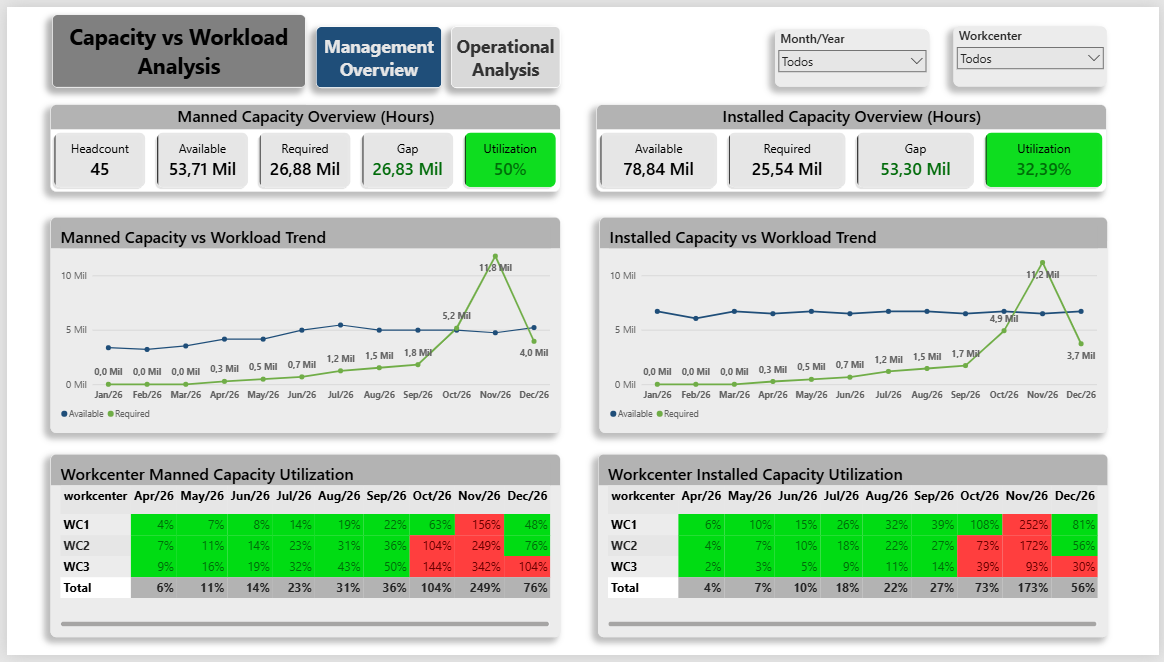

This screenshot's page, from the dashboard's own definition file:
{"tool":"powerbi","page":{"name":"Management Overview","canvas":[1920,1080],"ordinal":0},"visuals":[{"type":"cardVisual","title":"Installed Capacity Overview (Hours)","fields":{"Data":["Sum(analytics vw_capacity_workload.installed_capacity)","Sum(analytics vw_capacity_workload.required_installed_hours)","Sum(analytics vw_capacity_workload.installed_capacity_gap)","_measures.installed_utilization_pct"]},"box":[982.5,162.5,850,145],"z":0},{"type":"slicer","fields":{"Values":["planning_engine dim_date.month_year_name"]},"box":[1280,37.5,257.5,95],"z":1000},{"type":"cardVisual","title":"Manned Capacity Overview (Hours)","fields":{"Data":["_measures.Headcount","Sum(analytics vw_capacity_workload.manned_capacity)","Sum(analytics vw_capacity_workload.required_manned_hours)","Sum(analytics vw_capacity_workload.manned_capacity_gap)","_measures.manned_utilization_pct"]},"box":[72,162.5,850,145],"z":2000},{"type":"slicer","fields":{"Values":["planning_engine dim_workcenter.workcenter"]},"box":[1578.1,33.4,255.5,100.2],"z":3000},{"type":"lineChart","title":"Manned Capacity vs Workload Trend","fields":{"Category":["planning_engine dim_date.month_year_name"],"Y":["Sum(analytics vw_capacity_workload.manned_capacity)","Sum(analytics vw_capacity_workload.required_manned_hours)"]},"box":[73.3,350,850,360],"z":4000},{"type":"lineChart","title":"Installed Capacity vs Workload Trend","fields":{"Category":["planning_engine dim_date.month_year_name"],"Y":["Sum(analytics vw_capacity_workload.installed_capacity)","Sum(analytics vw_capacity_workload.required_installed_hours)"]},"box":[986.7,350,846.7,360],"z":5000},{"type":"pivotTable","title":"Workcenter Manned Capacity Utilization","fields":{"Columns":["planning_engine dim_date.month_year_name"],"Rows":["planning_engine dim_workcenter.workcenter"],"Values":["_measures.manned_utilization_pct"]},"box":[72.5,745,850,305],"z":6000},{"type":"pivotTable","title":"Workcenter Installed Capacity Utilization","fields":{"Columns":["planning_engine dim_date.month_year_name"],"Rows":["planning_engine dim_workcenter.workcenter"],"Values":["_measures.installed_utilization_pct"]},"box":[985,745,850,305],"z":7000},{"type":"shape","box":[74.4,12.2,423.3,122.2],"z":8000},{"type":"shape","box":[740,32.5,182.5,102.5],"z":9000},{"type":"shape","box":[515,32.5,210,102.5],"z":10000}]}

Visuals, with their boxes in screenshot pixels (x1, y1, x2, y2), scaled from the page's 1920x1080 canvas onto the 1164x662 screenshot:
"Installed Capacity Overview (Hours)" cardVisual: [596,100,1111,188]
slicer - planning_engine dim_date.month_year_name: [776,23,932,81]
"Manned Capacity Overview (Hours)" cardVisual: [44,100,559,188]
slicer - planning_engine dim_workcenter.workcenter: [957,20,1112,82]
"Manned Capacity vs Workload Trend" lineChart: [44,215,560,435]
"Installed Capacity vs Workload Trend" lineChart: [598,215,1111,435]
"Workcenter Manned Capacity Utilization" pivotTable: [44,457,559,644]
"Workcenter Installed Capacity Utilization" pivotTable: [597,457,1112,644]
shape: [45,7,302,82]
shape: [449,20,559,83]
shape: [312,20,440,83]
